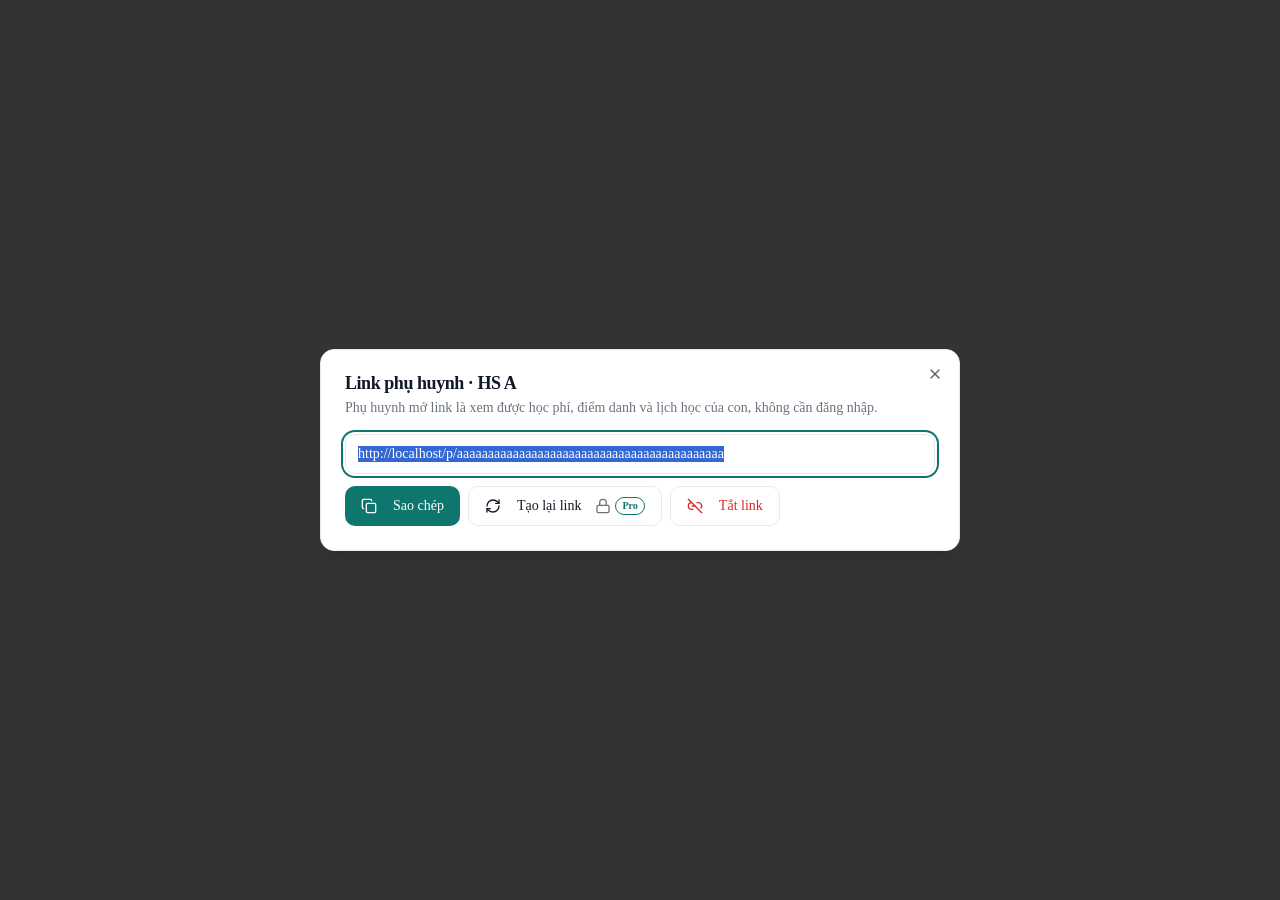
Test: ParentLinkDialog › canGenerate=false (hết Pro), HS đã có link: Tắt link vẫn bấm được; Tạo lại link có khóa, bấm mở popup Pro
Expected: the button "Tắt link" is enabled, [670,486,780,526]
Click the button "Tạo lại link Pro". click: (565, 506)
box: [468,486,662,526]
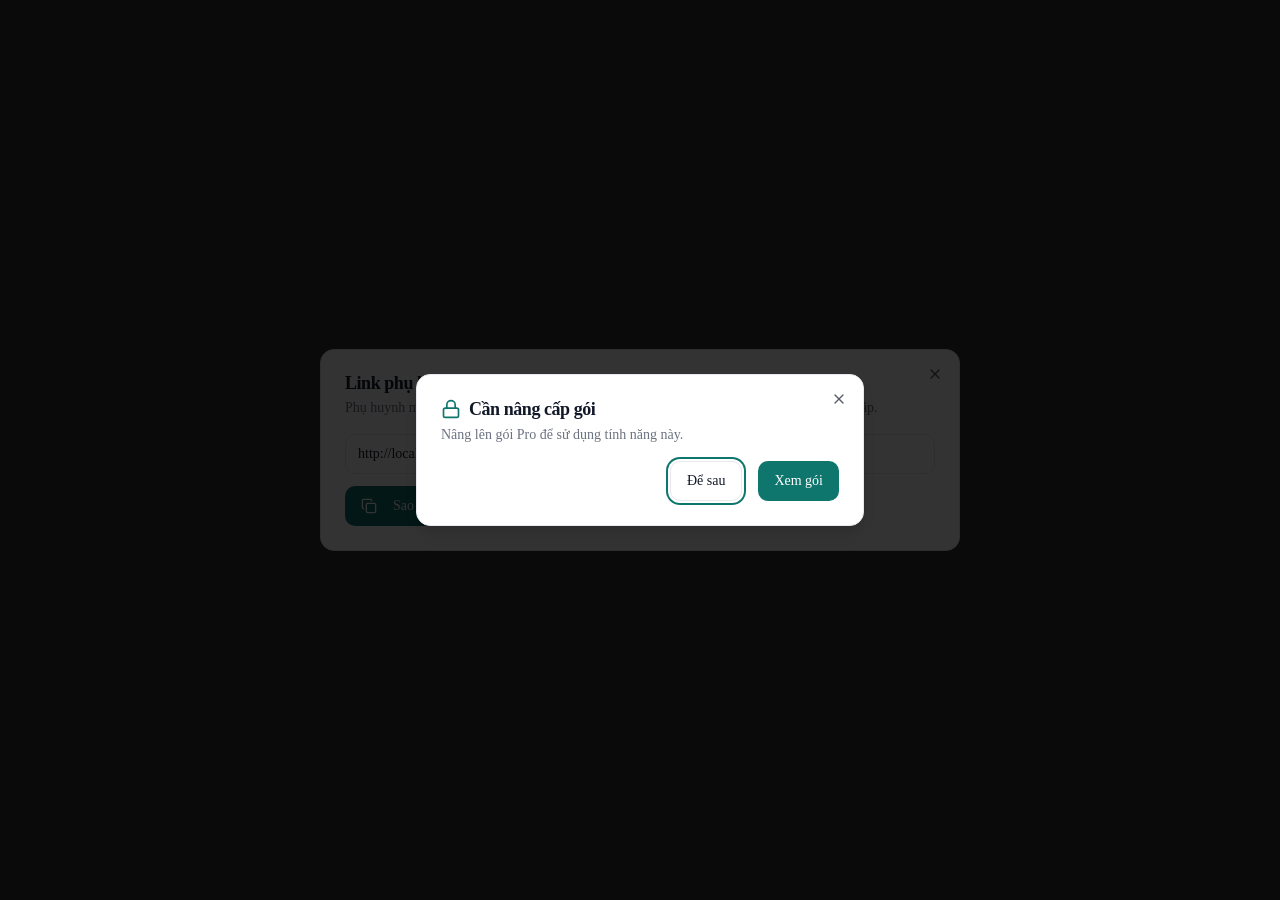
Result: the text "Nâng lên gói Pro để sử dụng tính năng này." is shown at [441,427,683,442]
